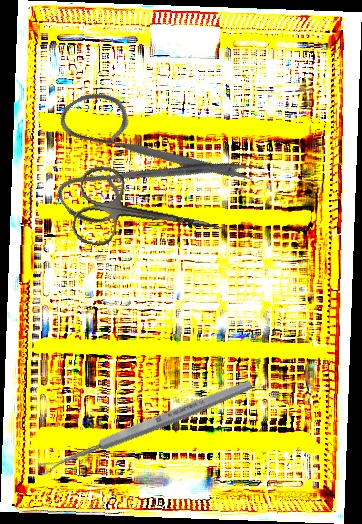Iris Scissors: (19, 37, 261, 274), (69, 162, 230, 269)
Surgical Spoon: (36, 377, 255, 477)
